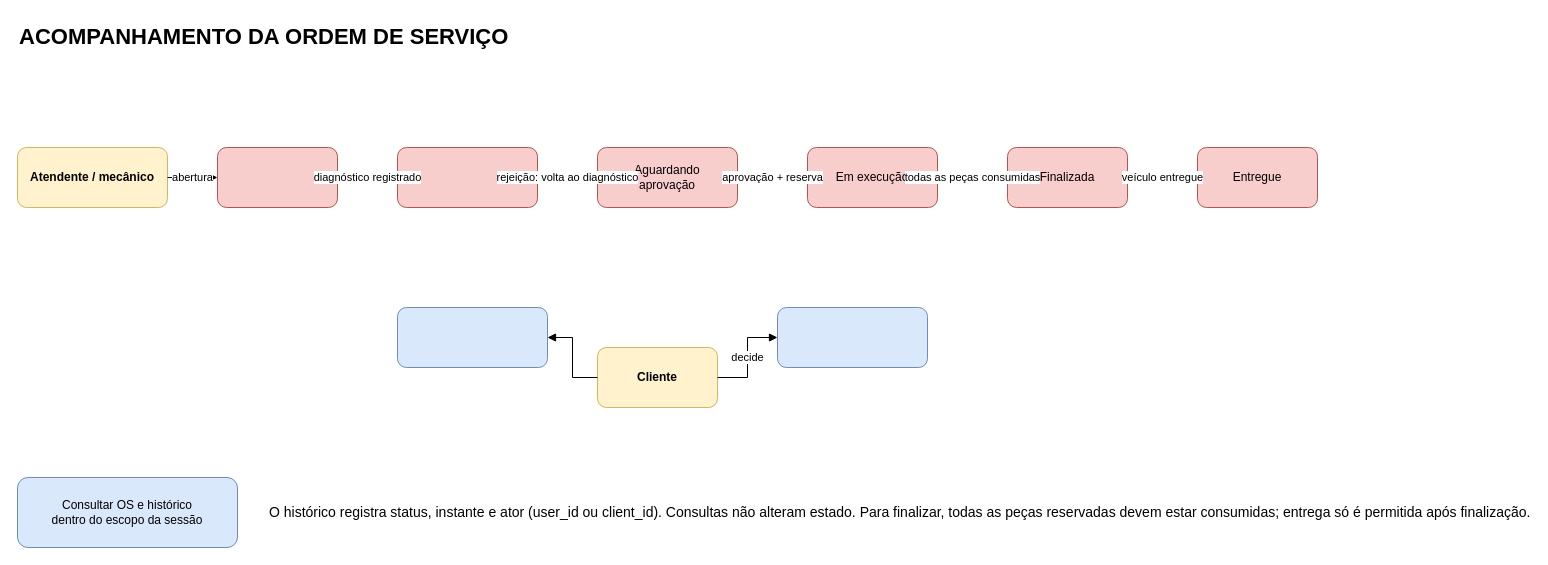
The diagram is 1548 pixels wide and 565 high, and some of its shapes have lost their labels. The box of each missing label's shape, as (x1, y1, x2, y2) in pixels:
Aprovar orçamento: (776, 306, 928, 368)
Em diagnóstico: (396, 146, 538, 208)
Recebida: (216, 146, 338, 208)
Rejeitar orçamento: (396, 306, 548, 368)
